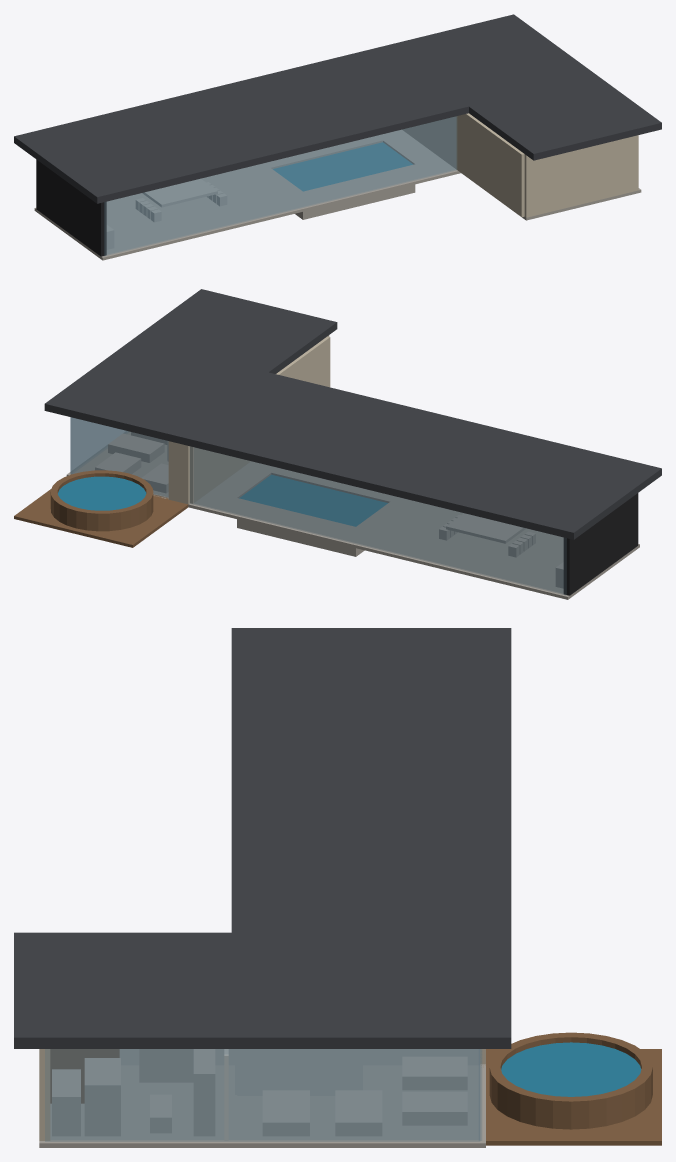
Rendered from zona_wellness_rev3.obj.
3 views of the same model, one above another, from view 1: azimuth 30°, elevation 25°; view 2: azimuth 150°, elevation 25°; view 3: azimuth 270°, elevation 25° (orthographic). The views are drawn at different scales.
Parts seen in each view (by area): view 1: Acoperis_bara, Acoperis_aripa, Vitraj_bara_sud, Pardoseala_bara, Perete_aripa_sud, Perete_aripa_vest, Perete_BBQ, Apa_piscina, Masa, Bazin, Scaune, Pardoseala_aripa; view 2: Acoperis_bara, Acoperis_aripa, Vitraj_bara_nord, Pardoseala_bara, Vitraj_relaxare_nord, Perete_BBQ, Apa_piscina, Perete_aripa_vest, Jacuzzi, Terasa_jacuzzi, Apa_jacuzzi, Pat_relaxare (+6 smaller); view 3: Acoperis_bara, Acoperis_aripa, Vitraj_est, Pardoseala_aripa, Pat_relaxare, Jacuzzi, Apa_jacuzzi, Terasa_jacuzzi, Partitie_baie_est, Aparat_1, Aparat_2, Partitie_hol (+5 smaller).
Part boxes in pixels (left/top/right/bottom): Acoperis_bara: left=14, top=45, right=468, bottom=203; Acoperis_aripa: left=386, top=14, right=661, bottom=160; Vitraj_bara_sud: left=104, top=116, right=456, bottom=255; Pardoseala_bara: left=34, top=130, right=460, bottom=260; Perete_aripa_sud: left=524, top=135, right=638, bottom=217; Perete_aripa_vest: left=402, top=113, right=524, bottom=217; Perete_BBQ: left=36, top=159, right=106, bottom=256; Apa_piscina: left=273, top=142, right=412, bottom=191; Masa: left=142, top=179, right=217, bottom=207; Bazin: left=272, top=141, right=415, bottom=219; Scaune: left=136, top=182, right=226, bottom=221; Pardoseala_aripa: left=522, top=188, right=641, bottom=220; Acoperis_bara: left=180, top=372, right=661, bottom=539; Acoperis_aripa: left=44, top=289, right=337, bottom=443; Vitraj_bara_nord: left=190, top=446, right=566, bottom=594; Pardoseala_bara: left=188, top=461, right=639, bottom=599; Vitraj_relaxare_nord: left=70, top=417, right=168, bottom=497; Perete_BBQ: left=563, top=493, right=638, bottom=595; Apa_piscina: left=239, top=475, right=387, bottom=526; Perete_aripa_vest: left=190, top=336, right=330, bottom=503; Jacuzzi: left=50, top=470, right=153, bottom=531; Terasa_jacuzzi: left=14, top=474, right=188, bottom=547; Apa_jacuzzi: left=58, top=476, right=146, bottom=510; Pat_relaxare: left=95, top=432, right=168, bottom=492; Acoperis_bara: left=231, top=628, right=511, bottom=932; Acoperis_aripa: left=14, top=932, right=511, bottom=1048; Vitraj_est: left=45, top=1049, right=480, bottom=1141; Pardoseala_aripa: left=39, top=1064, right=485, bottom=1147; Pat_relaxare: left=263, top=1057, right=467, bottom=1135; Jacuzzi: left=489, top=1032, right=652, bottom=1129; Apa_jacuzzi: left=501, top=1042, right=641, bottom=1096; Terasa_jacuzzi: left=486, top=1049, right=661, bottom=1145; Partitie_baie_est: left=237, top=1049, right=360, bottom=1095; Aparat_1: left=85, top=1058, right=120, bottom=1135; Aparat_2: left=52, top=1069, right=80, bottom=1135; Partitie_hol: left=120, top=1049, right=479, bottom=1064.
Bounding box in the file's own units: 26.7 × 4.99 × 17.85.
